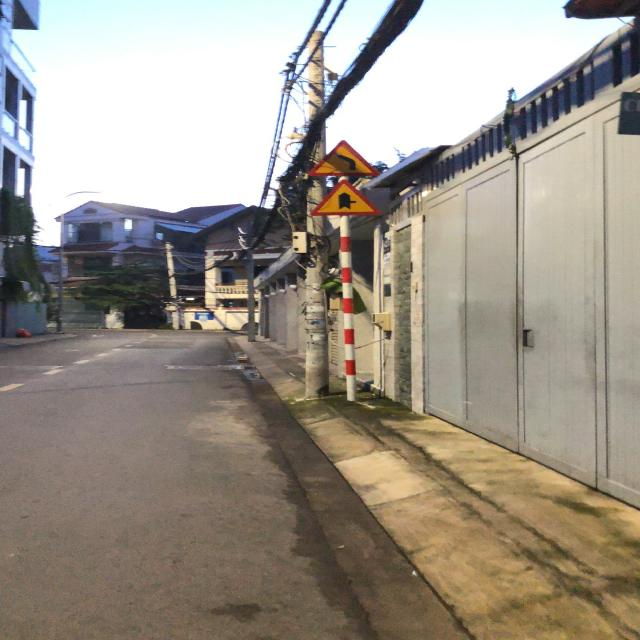Bien bao cho ngoat nguy hiem: (290, 133, 376, 177)
Bien bao giao nhau voi duong khong uu tien: (308, 177, 394, 216)
